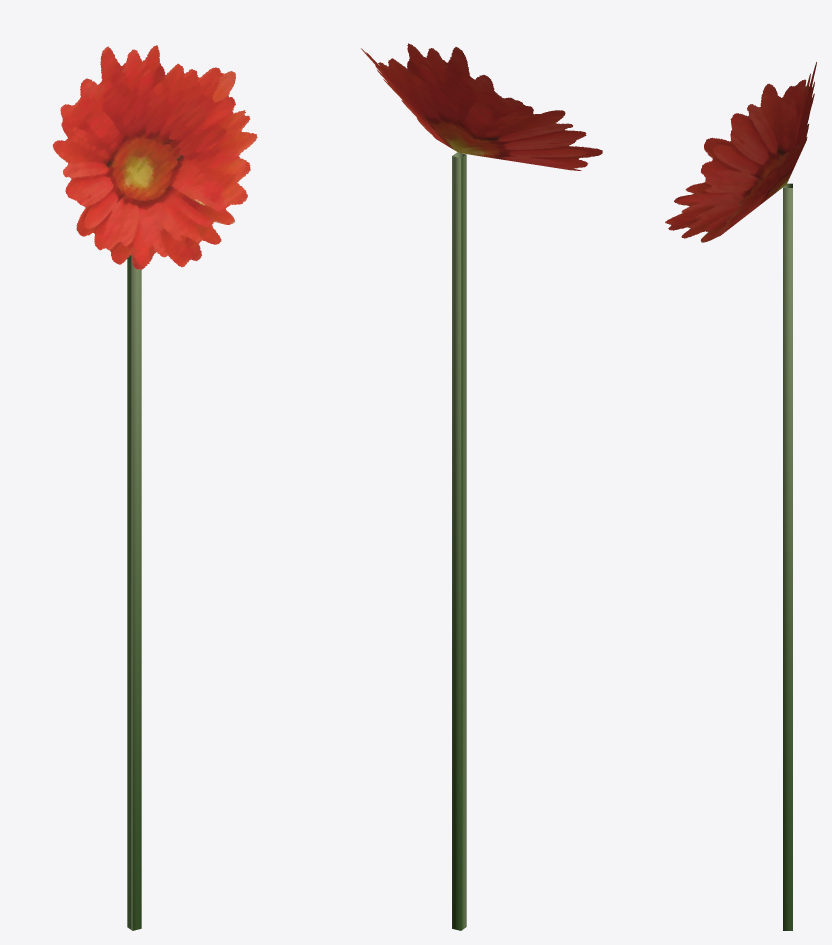
The model's file is FlowerRed.fbx.
3 renders of one model, left to right at view 1: azimuth 30°, elevation 25°; view 2: azimuth 150°, elevation 25°; view 3: azimuth 270°, elevation 25°, orthographic. The views are drawn at different scales.
Visible parts, largest first — view 1: FlowerRed; view 2: FlowerRed; view 3: FlowerRed.
Part boxes in pixels (left/top/right/bottom): FlowerRed: left=52, top=45, right=257, bottom=930; FlowerRed: left=361, top=43, right=602, bottom=930; FlowerRed: left=665, top=62, right=816, bottom=930.
Bounding box in the file's own units: 1.33 × 5.27 × 0.8673.
